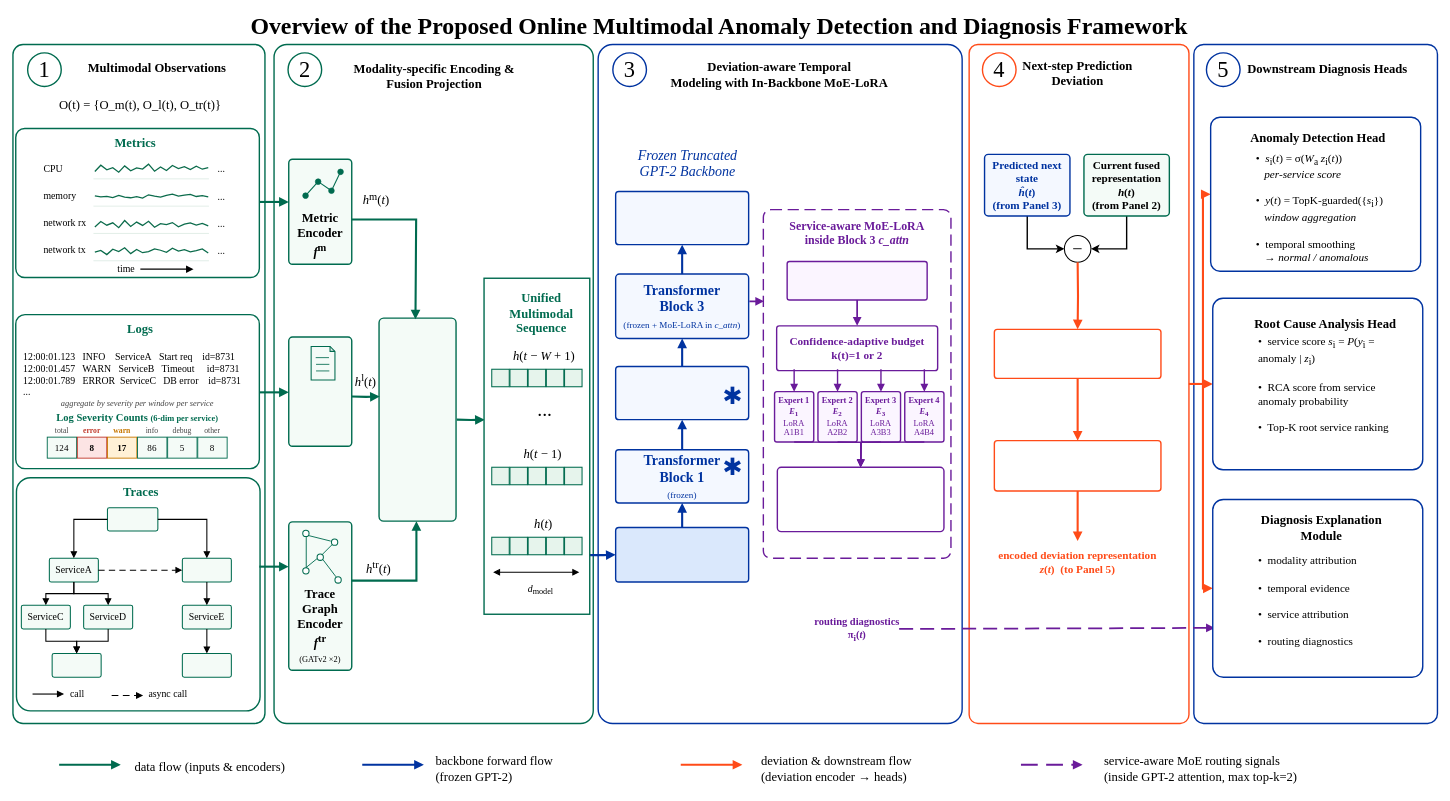
This 1450x801 diagram has some shape labels left out. The shapes that lost their labels are listed below. From the top down, each one's box as (x1, y1, x2, y2) in pixels, then its label:
(615, 190, 749, 245): Predicted next state ĥ ( t )
(786, 260, 927, 300): Router g ( h (l) ) + λ p s
(993, 328, 1161, 379): Prediction Deviation d ( t ) = ĥ ( t ) − h ( t )
(288, 336, 352, 447): Log Encoder f l
(615, 365, 749, 420): Transformer Block 2 (frozen)
(378, 317, 456, 522): Fusion Projection concat ↓ Linear ↓ LayerNorm ↓ GELU
(993, 440, 1161, 491): Deviation Encoder Linear + LayerNorm + GELU
(107, 507, 158, 531): Gateway
(776, 466, 944, 532): Sparse aggregation Δ QKV = ∑ π i E i ( h (l) )
(182, 557, 232, 582): ServiceB
(615, 526, 749, 582): H ( t − W +1: t )
(51, 653, 101, 677): DB
(182, 653, 232, 677): Cache
